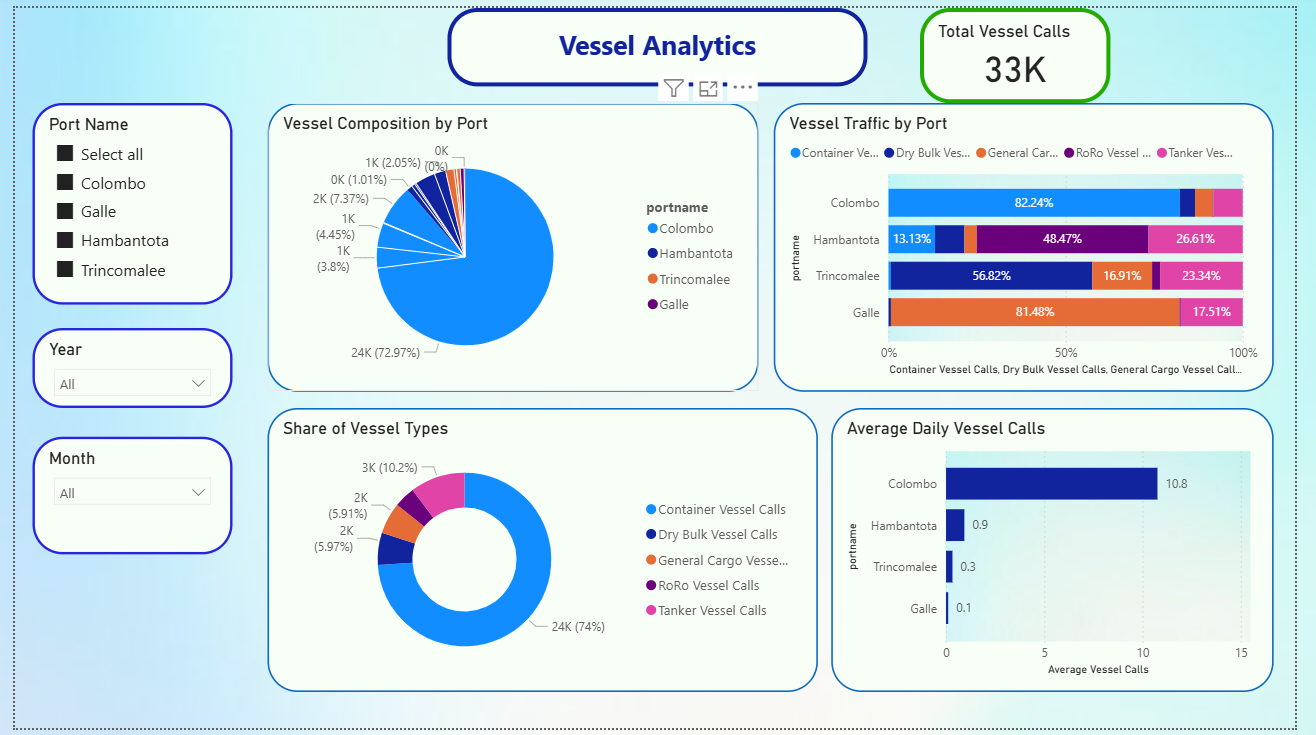

The dashboard page shown, as its layout file describes it:
{"tool":"powerbi","page":{"name":"Page 3- Vessel Analytics ","canvas":[1280,720],"ordinal":2},"visuals":[{"type":"textbox","box":[432.5,0,420,78.8],"z":0},{"type":"card","title":"Total Vessel Calls","fields":{"Values":["processed_sri_lanka_port_data.Total Vessel Calls"]},"box":[905,0,190,95],"z":1000},{"type":"pieChart","title":"Vessel Composition by Port","fields":{"Category":["processed_sri_lanka_port_data.portname"],"Y":["processed_sri_lanka_port_data.Container Vessel Calls","processed_sri_lanka_port_data.Dry Bulk Vessel Calls","processed_sri_lanka_port_data.General Cargo Vessel Calls","processed_sri_lanka_port_data.RoRo Vessel Calls","processed_sri_lanka_port_data.Tanker Vessel Calls"]},"box":[252.5,95,491.2,288.8],"z":2000},{"type":"donutChart","title":"Share of Vessel Types","fields":{"Y":["processed_sri_lanka_port_data.Container Vessel Calls","processed_sri_lanka_port_data.Dry Bulk Vessel Calls","processed_sri_lanka_port_data.General Cargo Vessel Calls","processed_sri_lanka_port_data.RoRo Vessel Calls","processed_sri_lanka_port_data.Tanker Vessel Calls"]},"box":[252.5,400,550,283.8],"z":3000},{"type":"hundredPercentStackedBarChart","title":"Vessel Traffic by Port","fields":{"Category":["processed_sri_lanka_port_data.portname"],"Y":["processed_sri_lanka_port_data.Container Vessel Calls","processed_sri_lanka_port_data.Dry Bulk Vessel Calls","processed_sri_lanka_port_data.General Cargo Vessel Calls","processed_sri_lanka_port_data.RoRo Vessel Calls","processed_sri_lanka_port_data.Tanker Vessel Calls"]},"box":[758.8,95,500,288.8],"z":4000},{"type":"clusteredBarChart","title":"Average Daily Vessel Calls","fields":{"Category":["processed_sri_lanka_port_data.portname"],"Y":["processed_sri_lanka_port_data.Average Vessel Calls"]},"box":[816.2,400,442.5,283.8],"z":5000},{"type":"slicer","title":"Port Name","fields":{"Values":["processed_sri_lanka_port_data.portname"]},"box":[17.5,95,200,201.2],"z":6000},{"type":"slicer","title":"Year","fields":{"Values":["processed_sri_lanka_port_data.year"]},"box":[17.5,320,200,80],"z":7000},{"type":"slicer","title":"Month","fields":{"Values":["processed_sri_lanka_port_data.month"]},"box":[17.5,428.8,200,117.5],"z":8000}]}

Visuals, with their boxes in screenshot pixels (x1, y1, x2, y2), scaled from the page's 1280x720 canvas onto the 1316x735 screenshot:
textbox: select_region(445, 0, 876, 80)
"Total Vessel Calls" card: select_region(930, 0, 1126, 97)
"Vessel Composition by Port" pieChart: select_region(260, 97, 765, 392)
"Share of Vessel Types" donutChart: select_region(260, 408, 825, 698)
"Vessel Traffic by Port" hundredPercentStackedBarChart: select_region(780, 97, 1294, 392)
"Average Daily Vessel Calls" clusteredBarChart: select_region(839, 408, 1294, 698)
"Port Name" slicer: select_region(18, 97, 224, 302)
"Year" slicer: select_region(18, 327, 224, 408)
"Month" slicer: select_region(18, 438, 224, 558)
